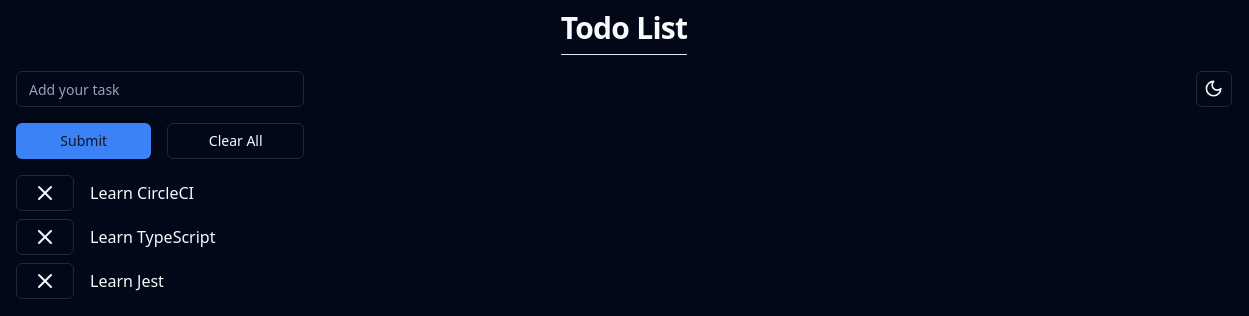
Test: Todo Component › can clear all tasks
Click the button "Clear All" at (236, 141), box [167,123,304,159]
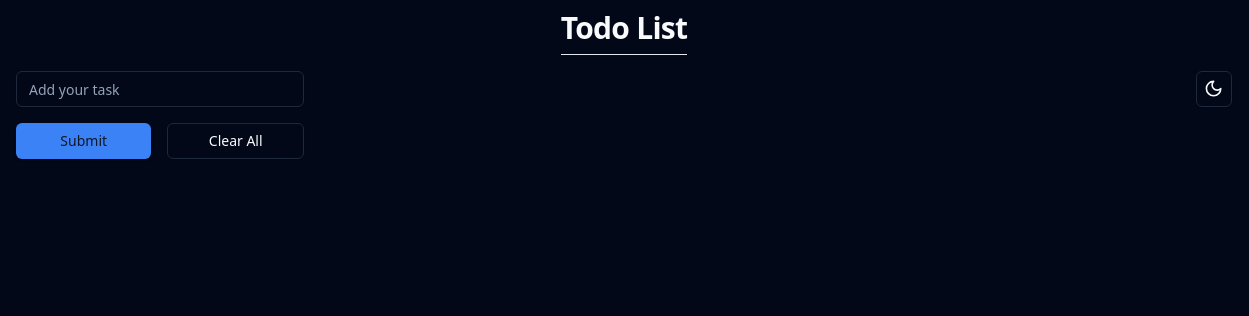
Now no list items are shown
